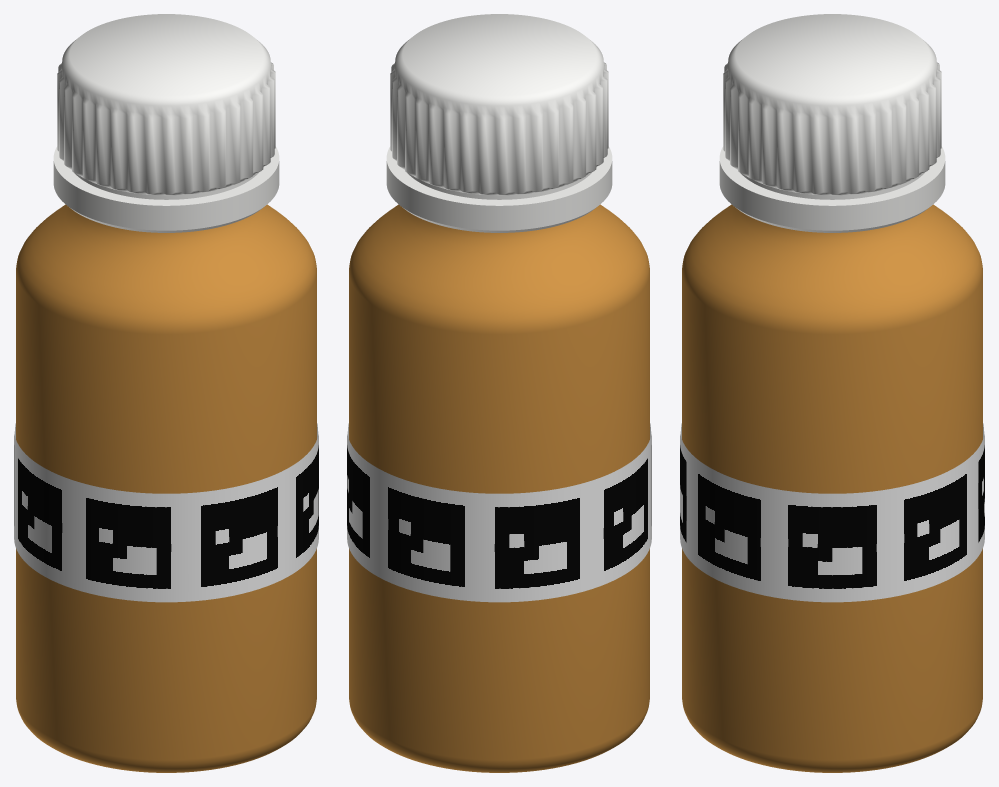
File: SMP-0113_2000743923503.glb
3 views of the same model, side by side, from view 1: azimuth 30°, elevation 25°; view 2: azimuth 150°, elevation 25°; view 3: azimuth 270°, elevation 25° (orthographic).
Visible parts, largest first — view 1: Bottle_030ml, Cap_030ml_PP20, Label_SMP-0113; view 2: Bottle_030ml, Cap_030ml_PP20, Label_SMP-0113; view 3: Bottle_030ml, Cap_030ml_PP20, Label_SMP-0113.
Boxes of the visible parts, x1=… form: Bottle_030ml: x1=16, y1=204, x2=316, y2=772; Cap_030ml_PP20: x1=53, y1=14, x2=279, y2=232; Label_SMP-0113: x1=14, y1=423, x2=318, y2=602; Bottle_030ml: x1=349, y1=204, x2=649, y2=772; Cap_030ml_PP20: x1=386, y1=14, x2=612, y2=232; Label_SMP-0113: x1=347, y1=423, x2=651, y2=602; Bottle_030ml: x1=682, y1=204, x2=982, y2=772; Cap_030ml_PP20: x1=719, y1=14, x2=945, y2=232; Label_SMP-0113: x1=680, y1=423, x2=984, y2=602.
Bounding box in the file's own units: 0.0321 × 0.077 × 0.0321.
4 materials, 1 textured.
